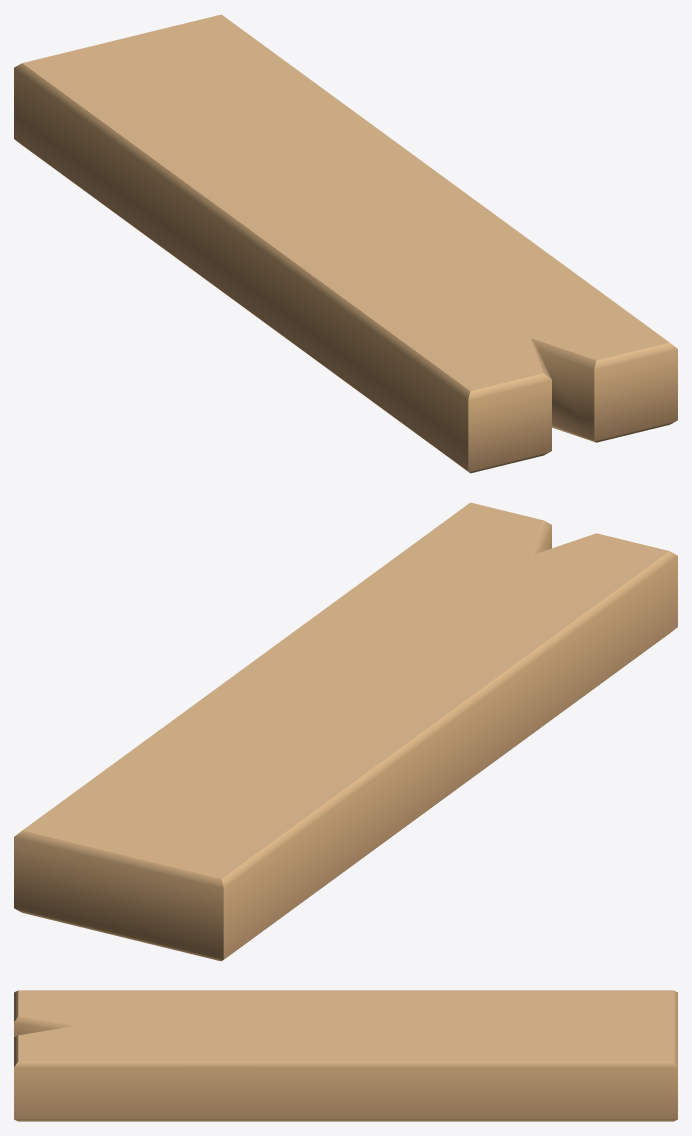
Rendered from wood_plank_b.glb.
3 views of the same model, one above another, from view 1: azimuth 30°, elevation 25°; view 2: azimuth 150°, elevation 25°; view 3: azimuth 270°, elevation 25° (orthographic). The views are drawn at different scales.
Visible parts, largest first — view 1: Wood_Plank_B; view 2: Wood_Plank_B; view 3: Wood_Plank_B.
Boxes of the visible parts, <box> form: Wood_Plank_B: <box>14,14,677,473</box>; Wood_Plank_B: <box>14,502,677,961</box>; Wood_Plank_B: <box>14,990,677,1121</box>.
Bounding box in the file's own units: 0.4 × 0.15 × 1.5.
1 material, 1 textured.
